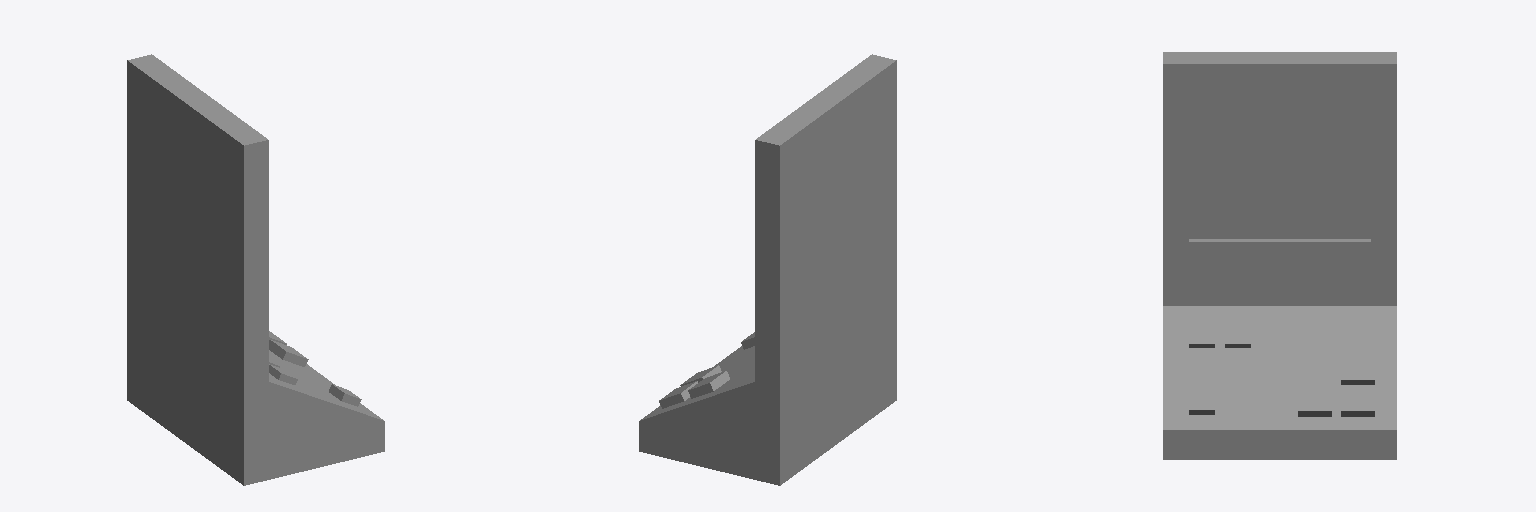
The model's file is Display3.obj.
3 renders of one model, left to right at view 1: azimuth 30°, elevation 25°; view 2: azimuth 150°, elevation 25°; view 3: azimuth 270°, elevation 25°, orthographic.
Visible parts, largest first — view 1: Cube.130_Cube.138; view 2: Cube.130_Cube.138; view 3: Cube.130_Cube.138.
Part boxes in pixels (left/top/right/bottom): Cube.130_Cube.138: left=127, top=54, right=384, bottom=485; Cube.130_Cube.138: left=639, top=54, right=896, bottom=485; Cube.130_Cube.138: left=1163, top=52, right=1396, bottom=459.
Size of the model in its own units: 0.7354 by 1.7 by 1.06.